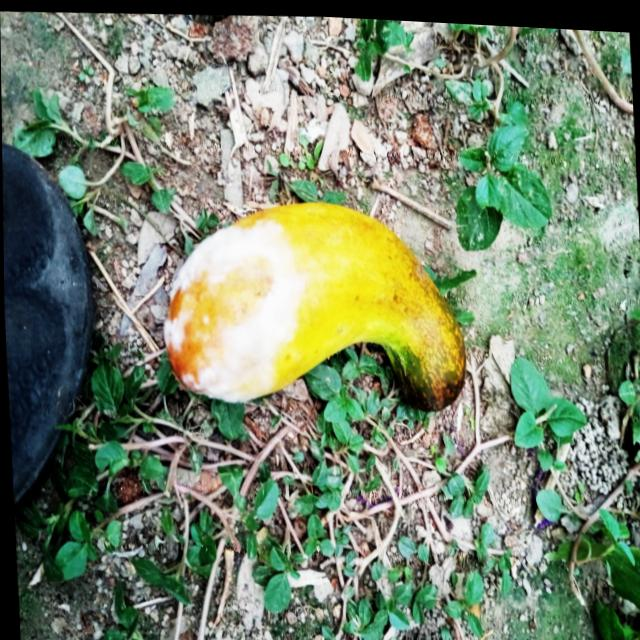Pythium-Fruit-Rot: (157, 208, 305, 408)
